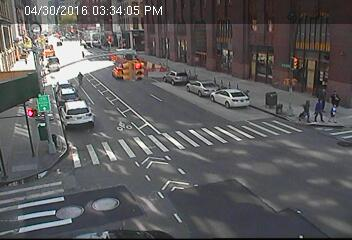neg: (214, 161, 233, 186), (191, 110, 209, 134), (31, 116, 48, 139), (143, 158, 160, 181), (10, 144, 27, 166), (99, 116, 114, 135), (242, 122, 256, 142), (195, 69, 209, 88), (266, 89, 280, 107), (157, 85, 171, 102), (73, 68, 86, 86), (236, 83, 249, 100), (135, 38, 147, 54), (99, 34, 109, 47), (63, 29, 72, 41)
pos: (297, 96, 316, 122), (312, 98, 330, 121), (326, 85, 343, 108), (326, 102, 342, 124), (316, 85, 332, 106), (22, 55, 28, 63)
